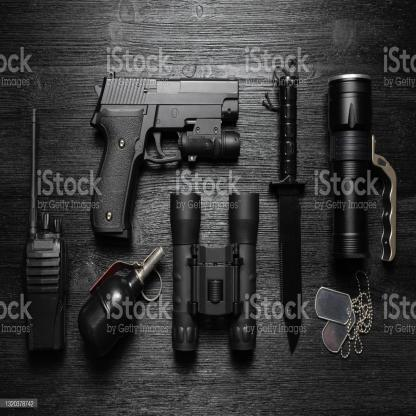Grenade: (78, 246, 166, 362)
Knife: (268, 74, 308, 355)
Pistol: (90, 71, 242, 246)
